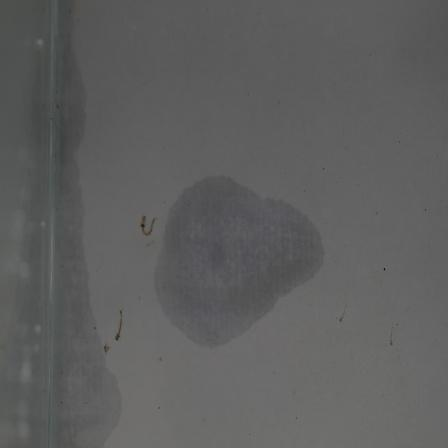Jentik-Nyamuk: (98, 305, 129, 357), (137, 210, 163, 241)
